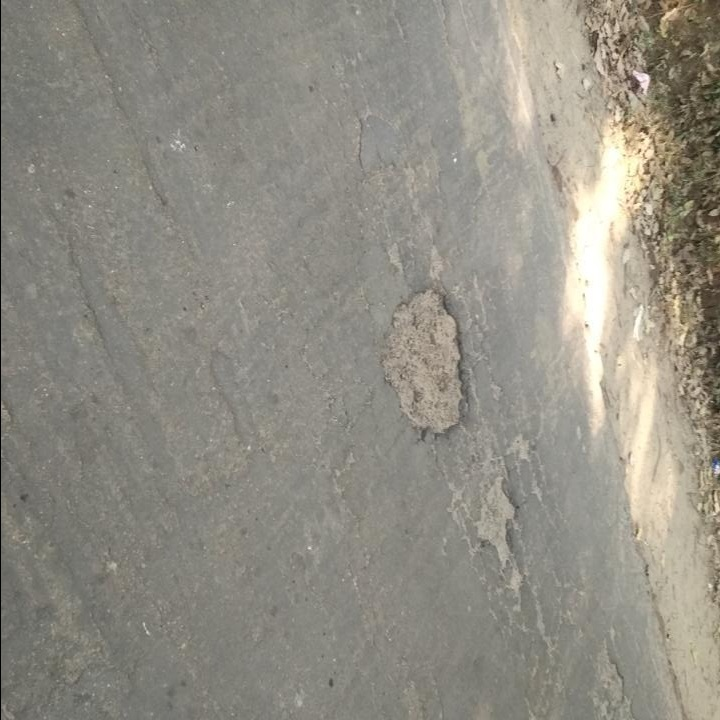pothole: (378, 281, 473, 438), (472, 472, 521, 570)
